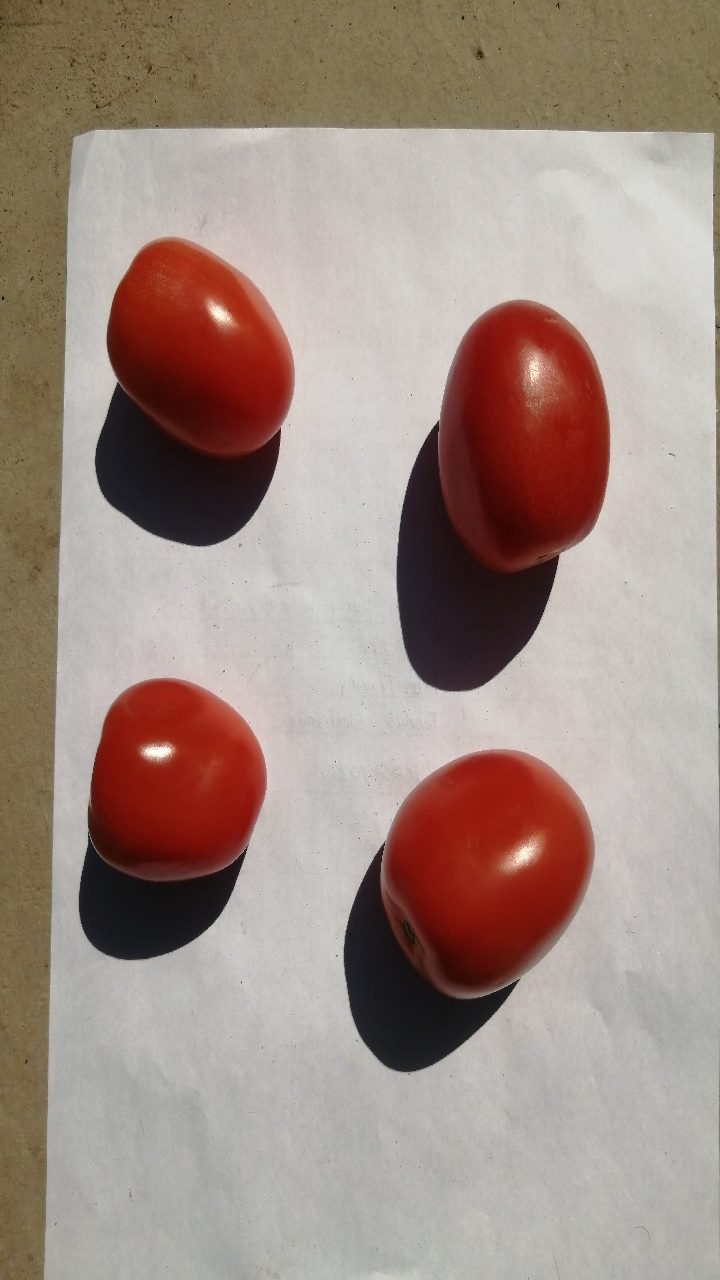tomateRojo: (404, 280, 664, 585), (351, 714, 589, 1011), (80, 649, 283, 920), (91, 220, 306, 475)
